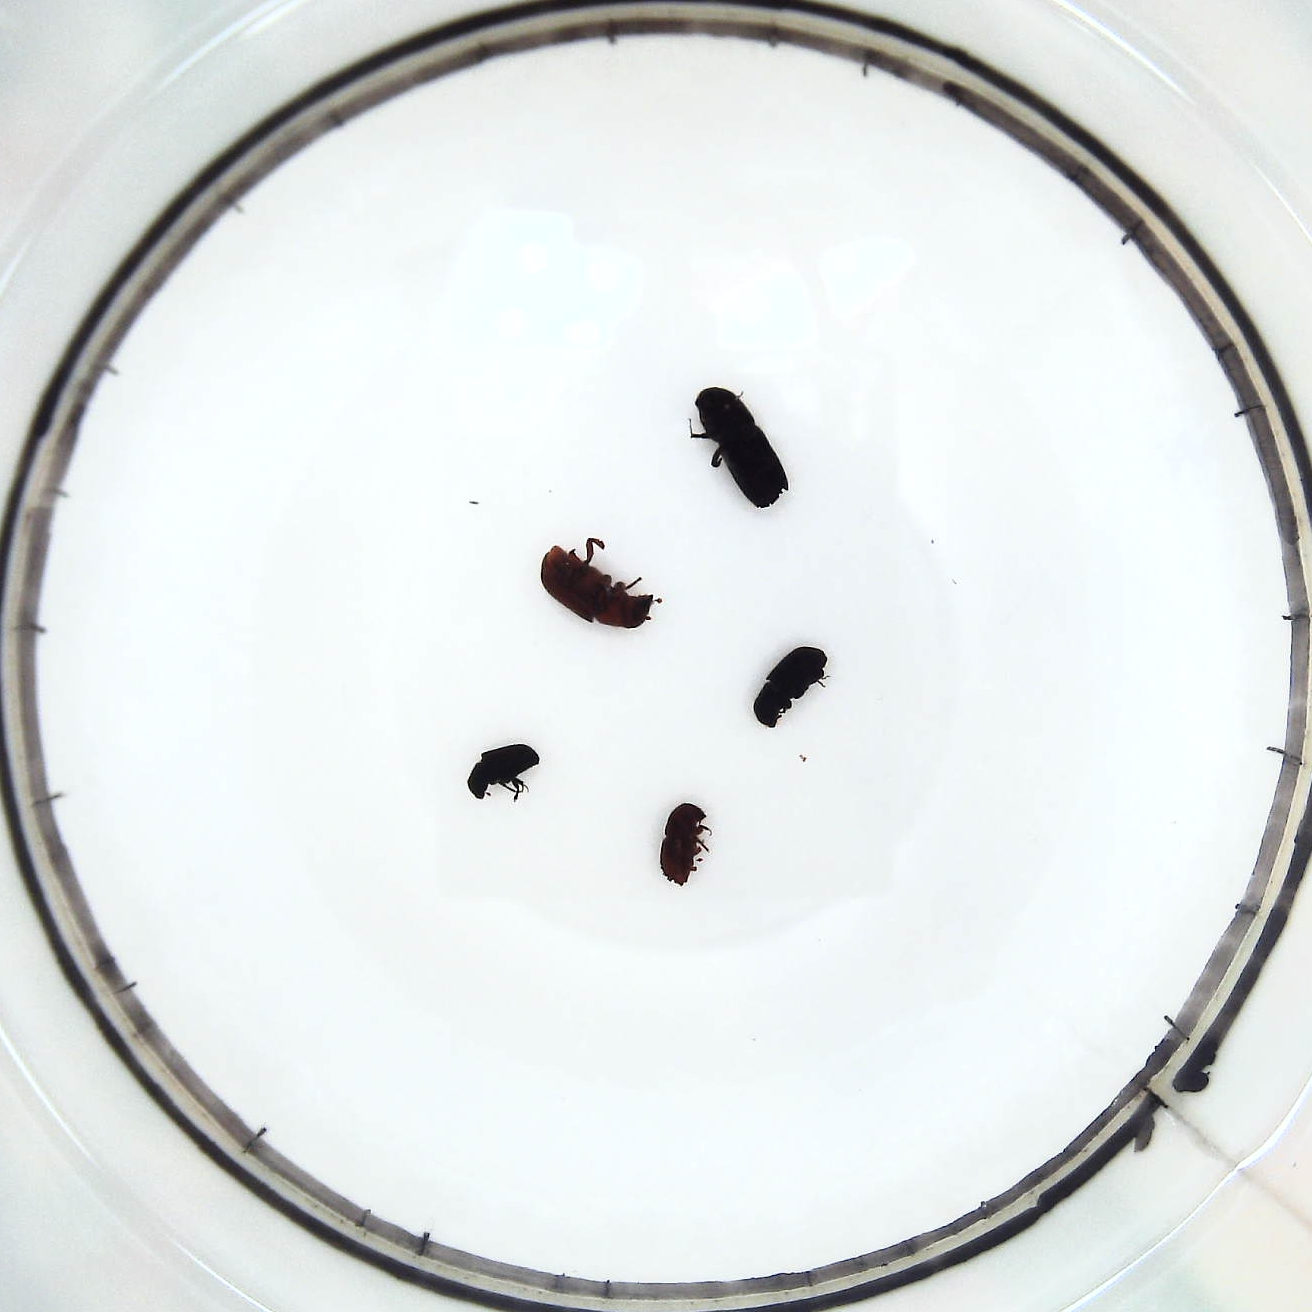Boerner: (688, 380, 791, 512)
Leconte: (536, 539, 654, 634)
armandi: (751, 642, 831, 734)
coleoptera: (463, 741, 539, 807)
linnaeus: (656, 803, 714, 885)
